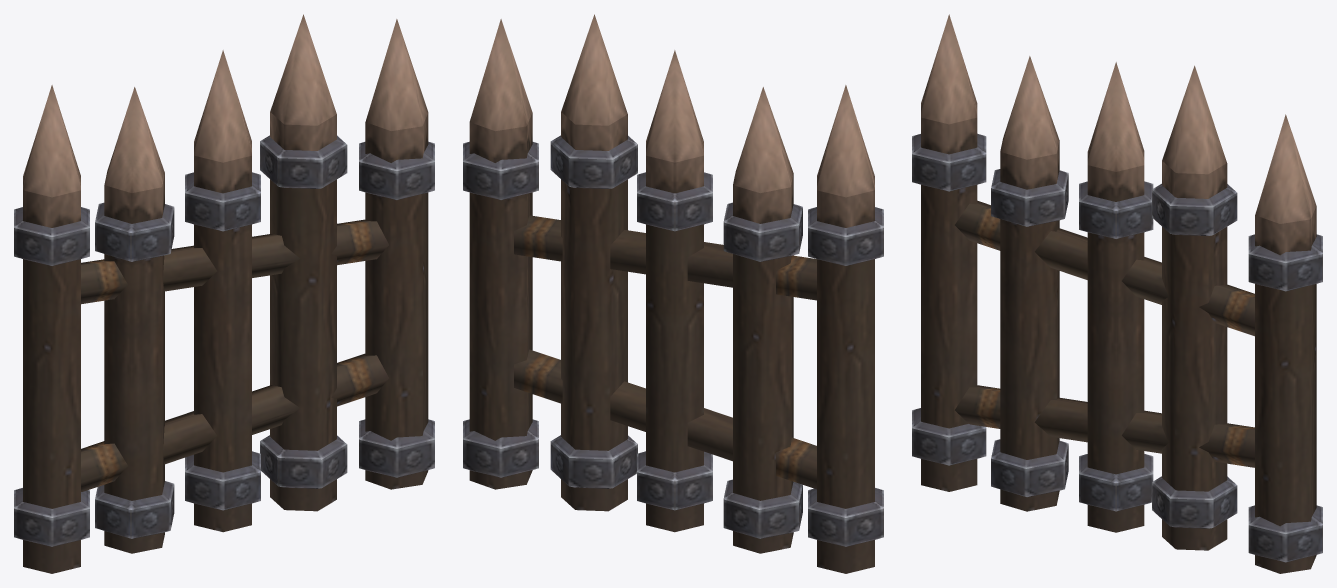
The model's file is prop_list_16.FBX.
The picture shows the model from 3 angles, left to right: view 1: azimuth 30°, elevation 25°; view 2: azimuth 150°, elevation 25°; view 3: azimuth 330°, elevation 25°; orthographic projection. The views are drawn at different scales.
Visible parts, largest first — view 1: prop_list_16; view 2: prop_list_16; view 3: prop_list_16.
Part boxes in pixels (x1,y1,x2,y2): prop_list_16: [14, 14, 434, 573]; prop_list_16: [463, 14, 883, 573]; prop_list_16: [912, 14, 1322, 573].
Bounding box in the file's own units: 88.46 × 97.32 × 15.9.
